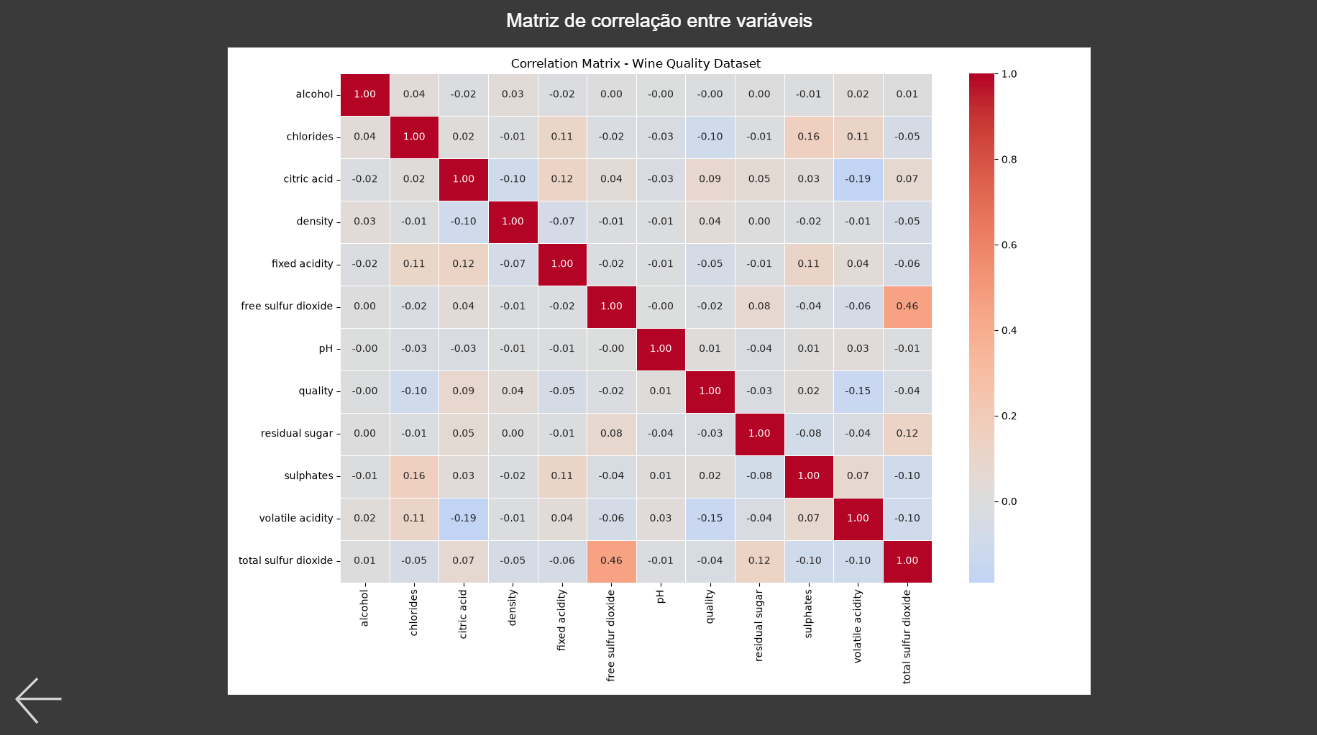

This screenshot's page, from the dashboard's own definition file:
{"tool":"powerbi","page":{"name":"Matriz de correlação","canvas":[1280,720],"ordinal":3},"visuals":[{"type":"pythonVisual","title":"Matriz de correlação entre variáveis","fields":{"Values":["Sum(winequality-total.alcohol)","Sum(winequality-total.chlorides)","winequality-total.citric acid","winequality-total.density","winequality-total.fixed acidity","winequality-total.free sulfur dioxide","winequality-total.pH","winequality-total.quality","winequality-total.residual sugar","winequality-total.sulphates","winequality-total.volatile acidity","winequality-total.total sulfur dioxide"]},"box":[161.2,12.8,955.7,666.5],"z":0},{"type":"actionButton","box":[0,639.2,100.1,80.8],"z":1}]}

Visuals, with their boxes on the page's 1280x720 design canvas (x1, y1, x2, y2). These are canvas units, not pixel positions in the 1317x735 screenshot, which may show the page scaled, cropped or inside an application window:
"Matriz de correlação entre variáveis" pythonVisual: bbox(161, 13, 1117, 679)
actionButton: bbox(0, 639, 100, 720)
